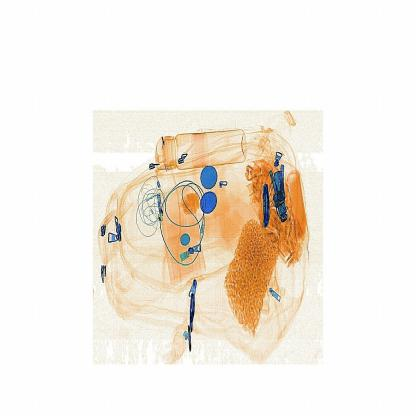knife: (255, 179, 274, 229)
